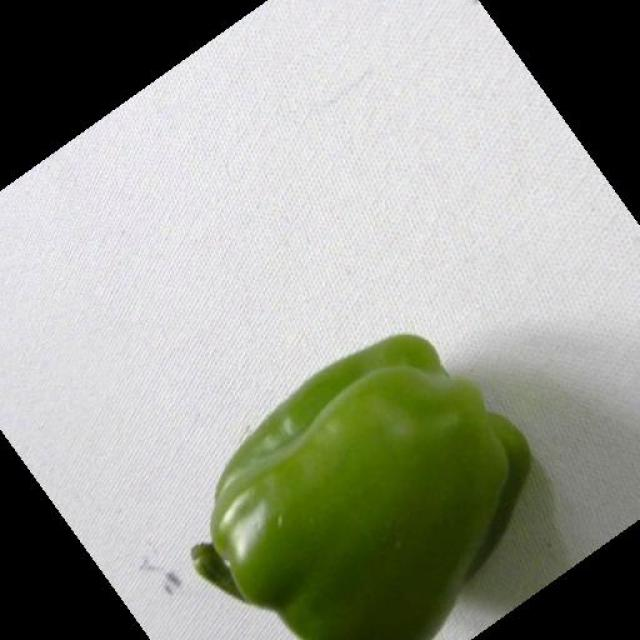Fresh_Capsicum: (203, 283, 510, 636)
